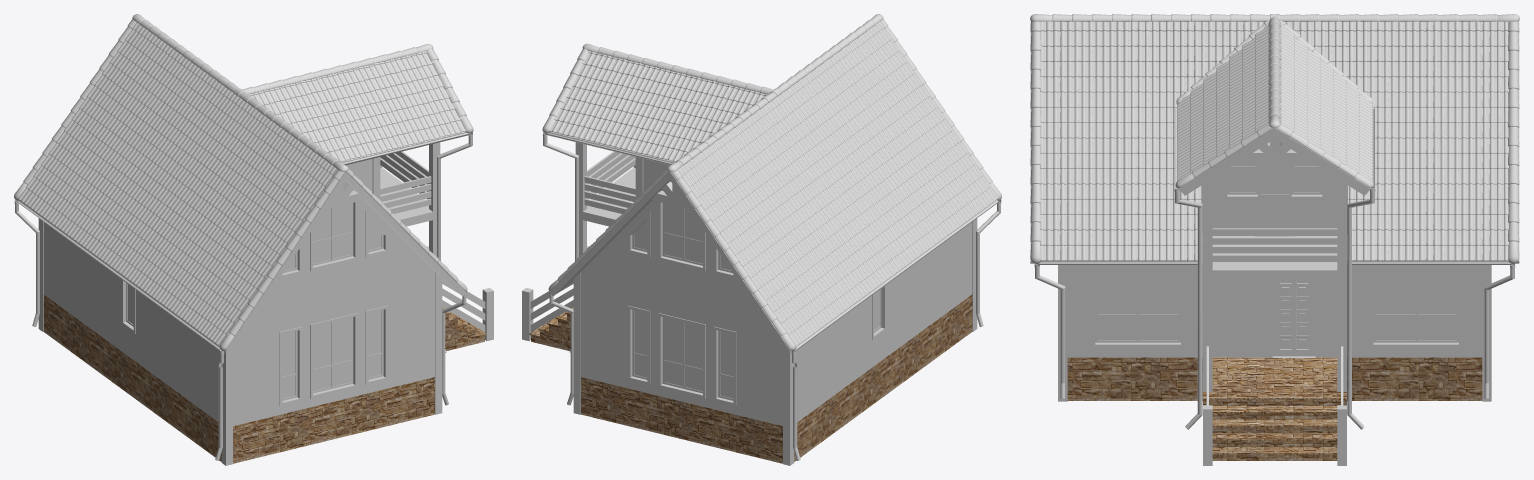
The model's file is dom.fbx.
The picture shows the model from 3 angles, left to right: view 1: azimuth 30°, elevation 25°; view 2: azimuth 150°, elevation 25°; view 3: azimuth 270°, elevation 25°; orthographic projection. The views are drawn at different scales.
Visible parts, largest first — view 1: cherepica, stena, window_rama, fundament, window_glass, stok; view 2: cherepica, stena, window_rama, fundament, window_glass, stok; view 3: cherepica, window_rama, fundament, stena, window_glass, stok.
Boxes of the visible parts, <box> form: cherepica: <box>14,14,473,351</box>; stena: <box>43,158,436,426</box>; window_rama: <box>38,130,493,465</box>; fundament: <box>43,294,486,463</box>; window_glass: <box>128,203,381,398</box>; stok: <box>14,132,472,460</box>; cherepica: <box>542,14,1001,351</box>; stena: <box>579,158,972,426</box>; window_rama: <box>522,130,977,465</box>; fundament: <box>529,294,972,463</box>; window_glass: <box>634,203,879,398</box>; stok: <box>542,132,1001,460</box>; cherepica: <box>1030,14,1519,263</box>; window_rama: <box>1030,20,1519,465</box>; fundament: <box>1067,357,1482,460</box>; stena: <box>1067,171,1482,357</box>; window_glass: <box>1098,142,1456,339</box>; stok: <box>1034,107,1515,429</box>.
Bounding box in the file's own units: 964 × 749 × 1021.
Materials: 1 (1 with a texture image).
